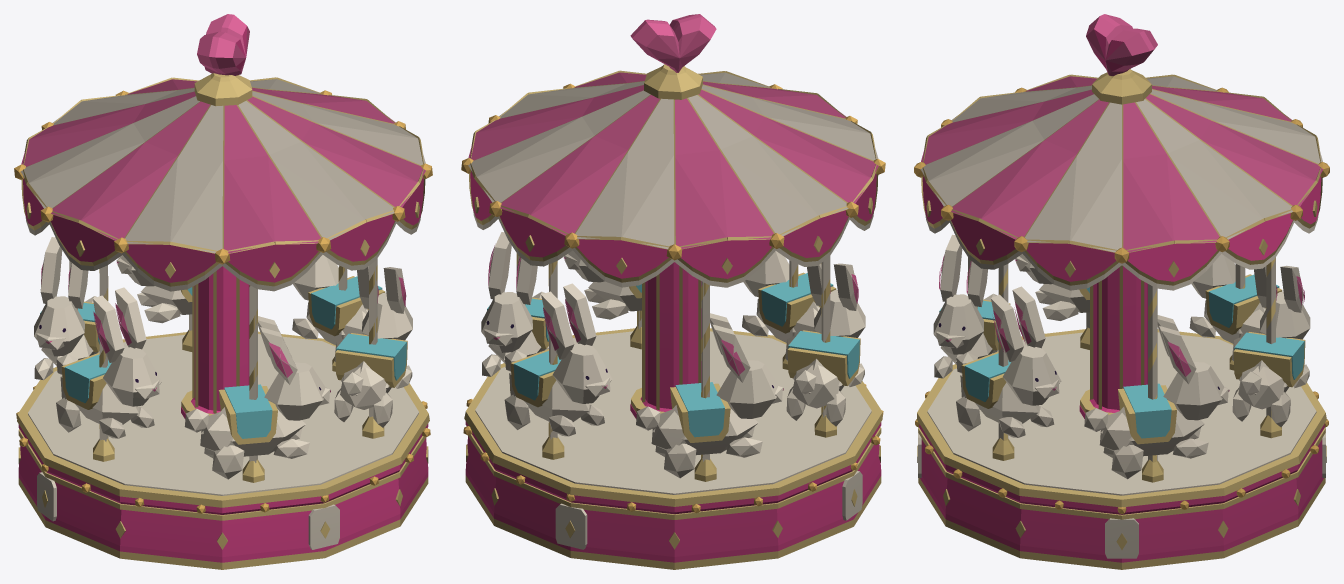
File: carousel.glb
3 renders of one model, left to right at view 1: azimuth 30°, elevation 25°; view 2: azimuth 150°, elevation 25°; view 3: azimuth 270°, elevation 25°, orthographic.
Visible parts, largest first — view 1: spin_mesh, bob4_mesh, bob3_mesh, bob5_mesh, bob2_mesh, bob0_mesh, bob1_mesh; view 2: spin_mesh, bob2_mesh, bob1_mesh, bob3_mesh, bob0_mesh, bob4_mesh, bob5_mesh; view 3: spin_mesh, bob0_mesh, bob5_mesh, bob1_mesh, bob4_mesh, bob2_mesh, bob3_mesh.
Boxes of the visible parts, x1,y1,x2,y2 form: spin_mesh: (14, 14, 432, 569); bob4_mesh: (184, 316, 330, 479); bob3_mesh: (56, 287, 161, 438); bob5_mesh: (334, 266, 412, 427); bob2_mesh: (34, 237, 99, 380); bob0_mesh: (292, 255, 385, 361); bob1_mesh: (116, 255, 192, 323); spin_mesh: (461, 14, 885, 569); bob2_mesh: (636, 313, 783, 478); bob1_mesh: (504, 283, 612, 436); bob3_mesh: (786, 263, 865, 426); bob0_mesh: (481, 232, 548, 376); bob4_mesh: (742, 251, 836, 361); bob5_mesh: (563, 250, 641, 319); spin_mesh: (914, 14, 1329, 569); bob0_mesh: (1084, 315, 1229, 479); bob5_mesh: (956, 286, 1061, 437); bob1_mesh: (1232, 265, 1310, 426); bob4_mesh: (933, 234, 1010, 378); bob2_mesh: (1189, 254, 1282, 361); bob3_mesh: (1015, 254, 1089, 320).
Size of the model in its own units: 7.5 by 9.02 by 7.4.
